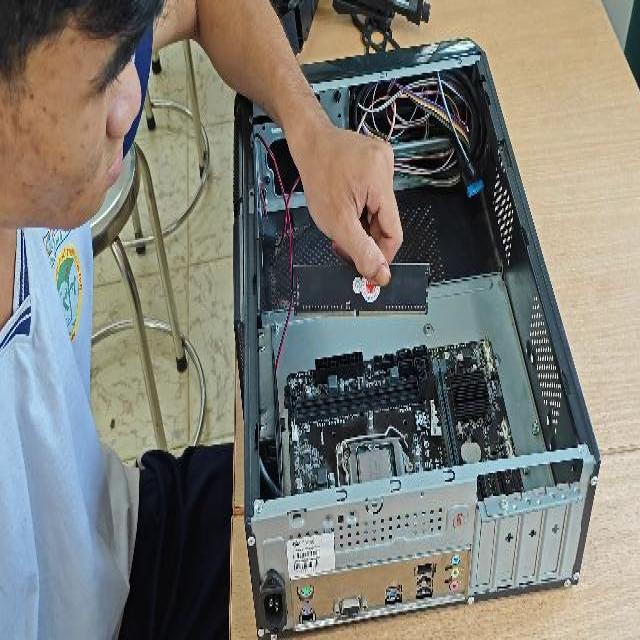CPU: (356, 445, 395, 481)
Mainboard: (286, 337, 525, 495)
RAM: (291, 262, 432, 319)
